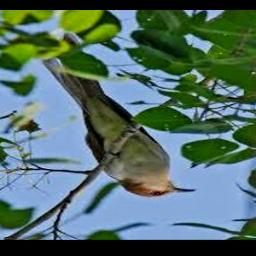Cuckoo: (40, 35, 197, 198)
